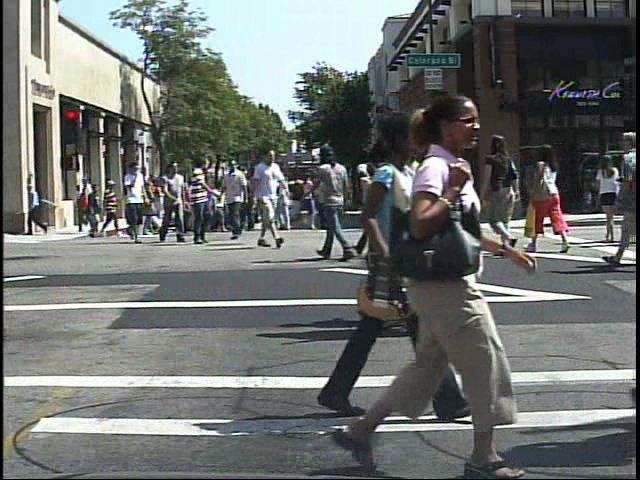person: (323, 88, 532, 480), (355, 135, 466, 341), (399, 127, 454, 337), (308, 134, 360, 265), (344, 145, 393, 263), (528, 138, 570, 257), (247, 143, 286, 251), (487, 134, 527, 231), (177, 154, 216, 247), (156, 158, 190, 248), (118, 158, 151, 246), (595, 149, 621, 243), (98, 177, 122, 241), (77, 182, 97, 233)
